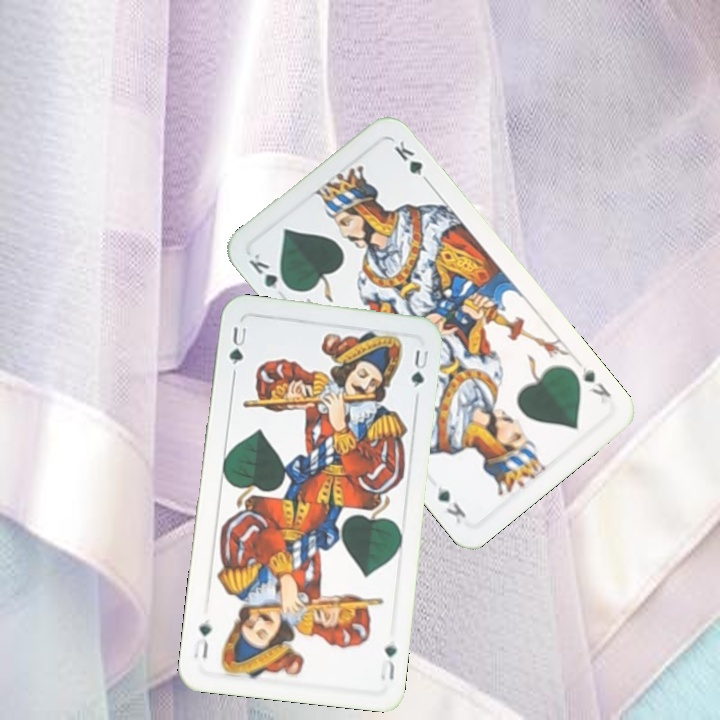GK: (244, 249, 293, 294), (578, 363, 614, 400)
GU: (225, 323, 249, 367), (376, 640, 399, 683)
